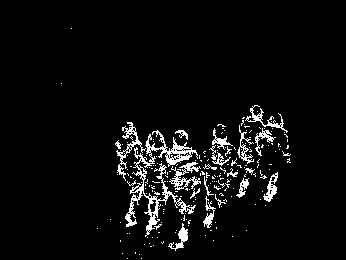person: (168, 126, 203, 251), (203, 123, 239, 230), (115, 120, 147, 230), (255, 110, 292, 203), (140, 127, 170, 239), (237, 104, 263, 203)
